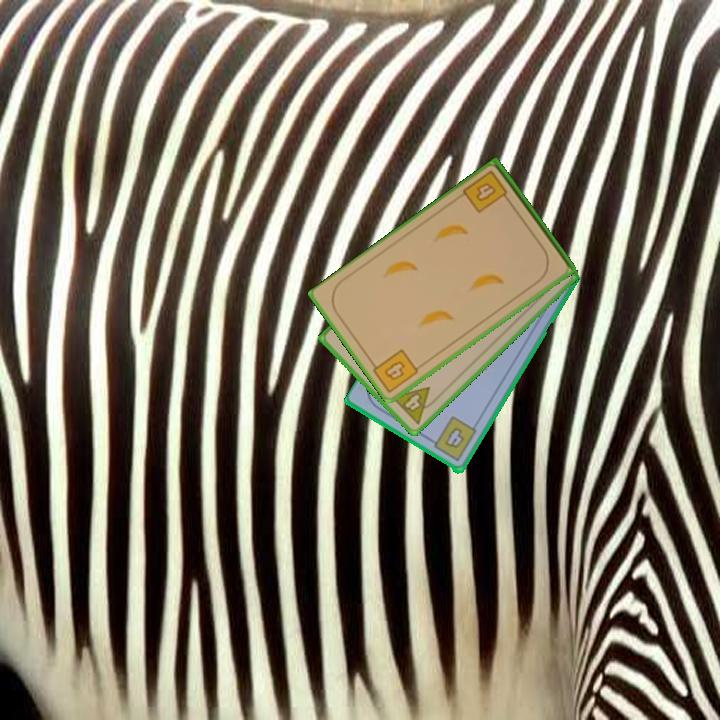4b: (426, 413, 479, 465), (367, 346, 422, 395), (460, 167, 514, 216)
4p: (387, 383, 442, 427)
